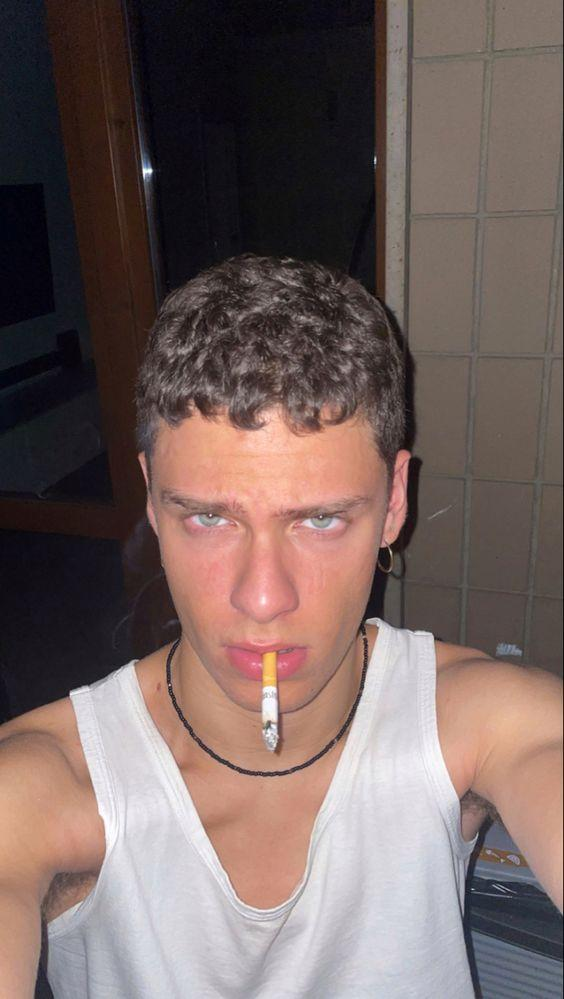cigarette: (261, 650, 280, 755)
